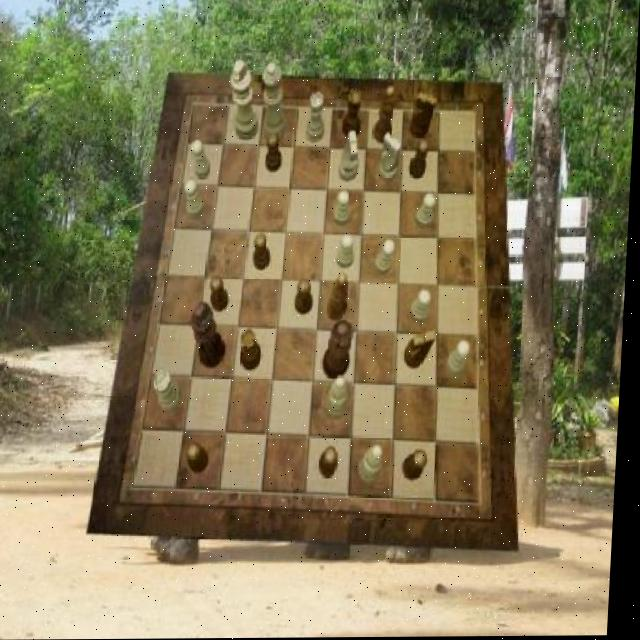bishop: (374, 87, 398, 146), (330, 273, 352, 323)
black-bishop: (191, 302, 231, 368)
black-king: (411, 93, 439, 139), (406, 331, 439, 370)
black-knight: (407, 451, 432, 482), (210, 277, 232, 312), (411, 141, 431, 179), (190, 443, 214, 474), (297, 280, 316, 316), (267, 134, 285, 172), (323, 447, 343, 480), (255, 234, 273, 270)
black-pawn: (325, 321, 358, 381)
black-queen: (343, 88, 364, 139), (243, 329, 267, 372)
black-rook: (328, 376, 352, 420), (362, 445, 388, 485)
white-bishop: (228, 60, 262, 142)
white-king: (379, 133, 404, 182), (338, 131, 361, 182)
white-knight: (448, 342, 474, 378), (185, 180, 207, 220), (191, 140, 213, 180), (376, 241, 398, 277), (413, 291, 434, 326), (417, 194, 438, 229), (334, 190, 352, 227), (339, 235, 358, 269)
white-pawn: (260, 65, 291, 143)
white-queen: (157, 371, 186, 413), (306, 92, 327, 143)
